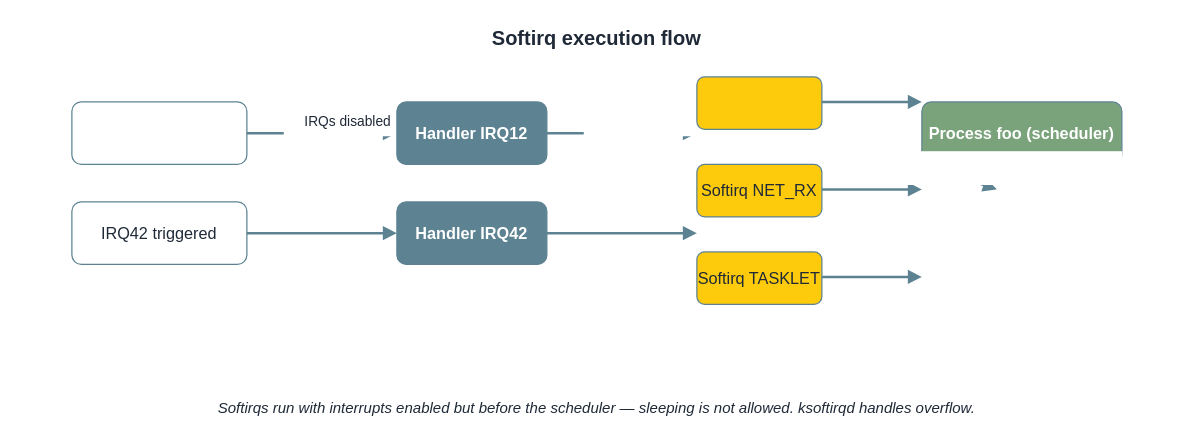
The diagram is 1193 pixels wide and 448 high, and some of its shapes have lost their labels. The shapes that lost their labels are listed below. From the top down, each one's box as (x1, y1, x2, y2) in pixels, then its label:
(583, 107, 704, 136): IRQs enabled
(696, 76, 822, 129): Softirq HI_SOFTIRQ
(71, 101, 247, 164): IRQ12 triggered
(896, 151, 1122, 184): once all IRQ handlers done, softirqs run
